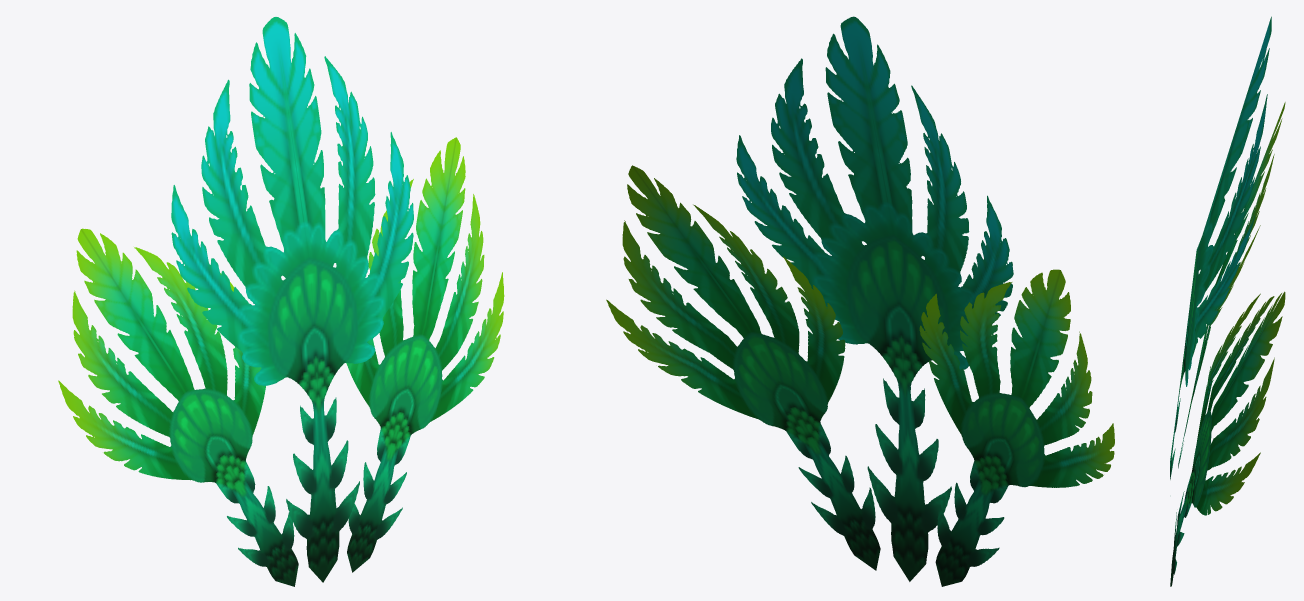
The model's file is Green_Bush_04a.FBX.
3 views of the same model, side by side, from view 1: azimuth 30°, elevation 25°; view 2: azimuth 150°, elevation 25°; view 3: azimuth 270°, elevation 25° (orthographic). The views are drawn at different scales.
Visible parts, largest first — view 1: Green_Bush_04a; view 2: Green_Bush_04a; view 3: Green_Bush_04a.
Boxes of the visible parts, bbox=[...] form: Green_Bush_04a: bbox=[58, 17, 504, 586]; Green_Bush_04a: bbox=[606, 16, 1114, 586]; Green_Bush_04a: bbox=[1170, 16, 1285, 586].
Bounding box in the file's own units: 134 × 133 × 25.73.
